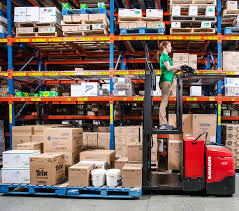Pallet Jack: (6, 61, 236, 198)
